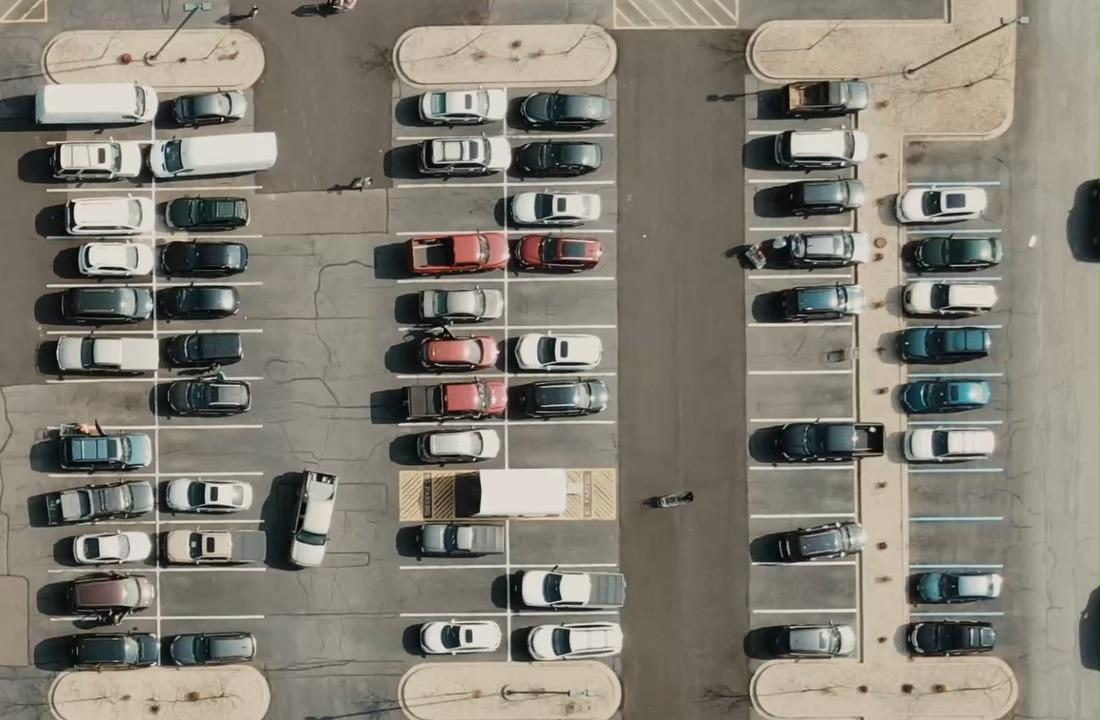car: (146, 130, 278, 180), (748, 419, 884, 465), (39, 419, 152, 472), (33, 81, 158, 126), (740, 229, 870, 270), (43, 478, 154, 526), (749, 519, 866, 564), (286, 468, 338, 567), (63, 570, 155, 625), (511, 567, 626, 610), (405, 230, 510, 275), (752, 282, 864, 323), (401, 378, 507, 421), (753, 177, 864, 218), (743, 620, 855, 660), (46, 138, 143, 182), (773, 127, 868, 171), (519, 621, 623, 661), (510, 377, 609, 419), (493, 190, 600, 228), (164, 371, 251, 417), (900, 279, 998, 319), (518, 90, 611, 131), (906, 233, 1003, 272), (59, 285, 153, 325), (894, 184, 987, 224), (896, 325, 991, 364), (513, 233, 603, 274), (509, 139, 603, 178), (416, 134, 499, 178), (512, 332, 603, 372), (158, 239, 248, 278), (782, 78, 869, 118), (417, 87, 506, 126), (161, 477, 252, 515), (898, 377, 991, 414), (902, 426, 995, 463), (416, 285, 504, 324), (416, 331, 499, 372), (162, 630, 256, 666), (906, 618, 995, 656), (63, 195, 146, 235), (414, 522, 505, 558), (417, 618, 502, 656), (162, 195, 249, 232), (414, 428, 500, 465), (170, 88, 247, 128), (163, 330, 244, 368), (156, 284, 240, 320), (75, 240, 153, 278), (71, 529, 153, 565), (914, 570, 1002, 603)
